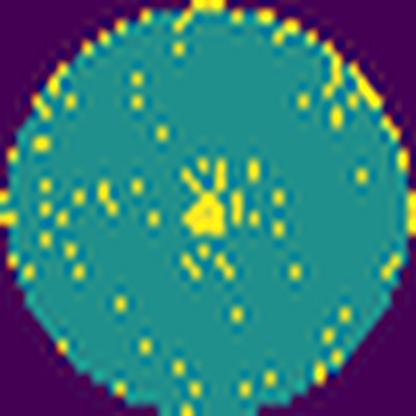Center: (184, 190, 227, 240)
